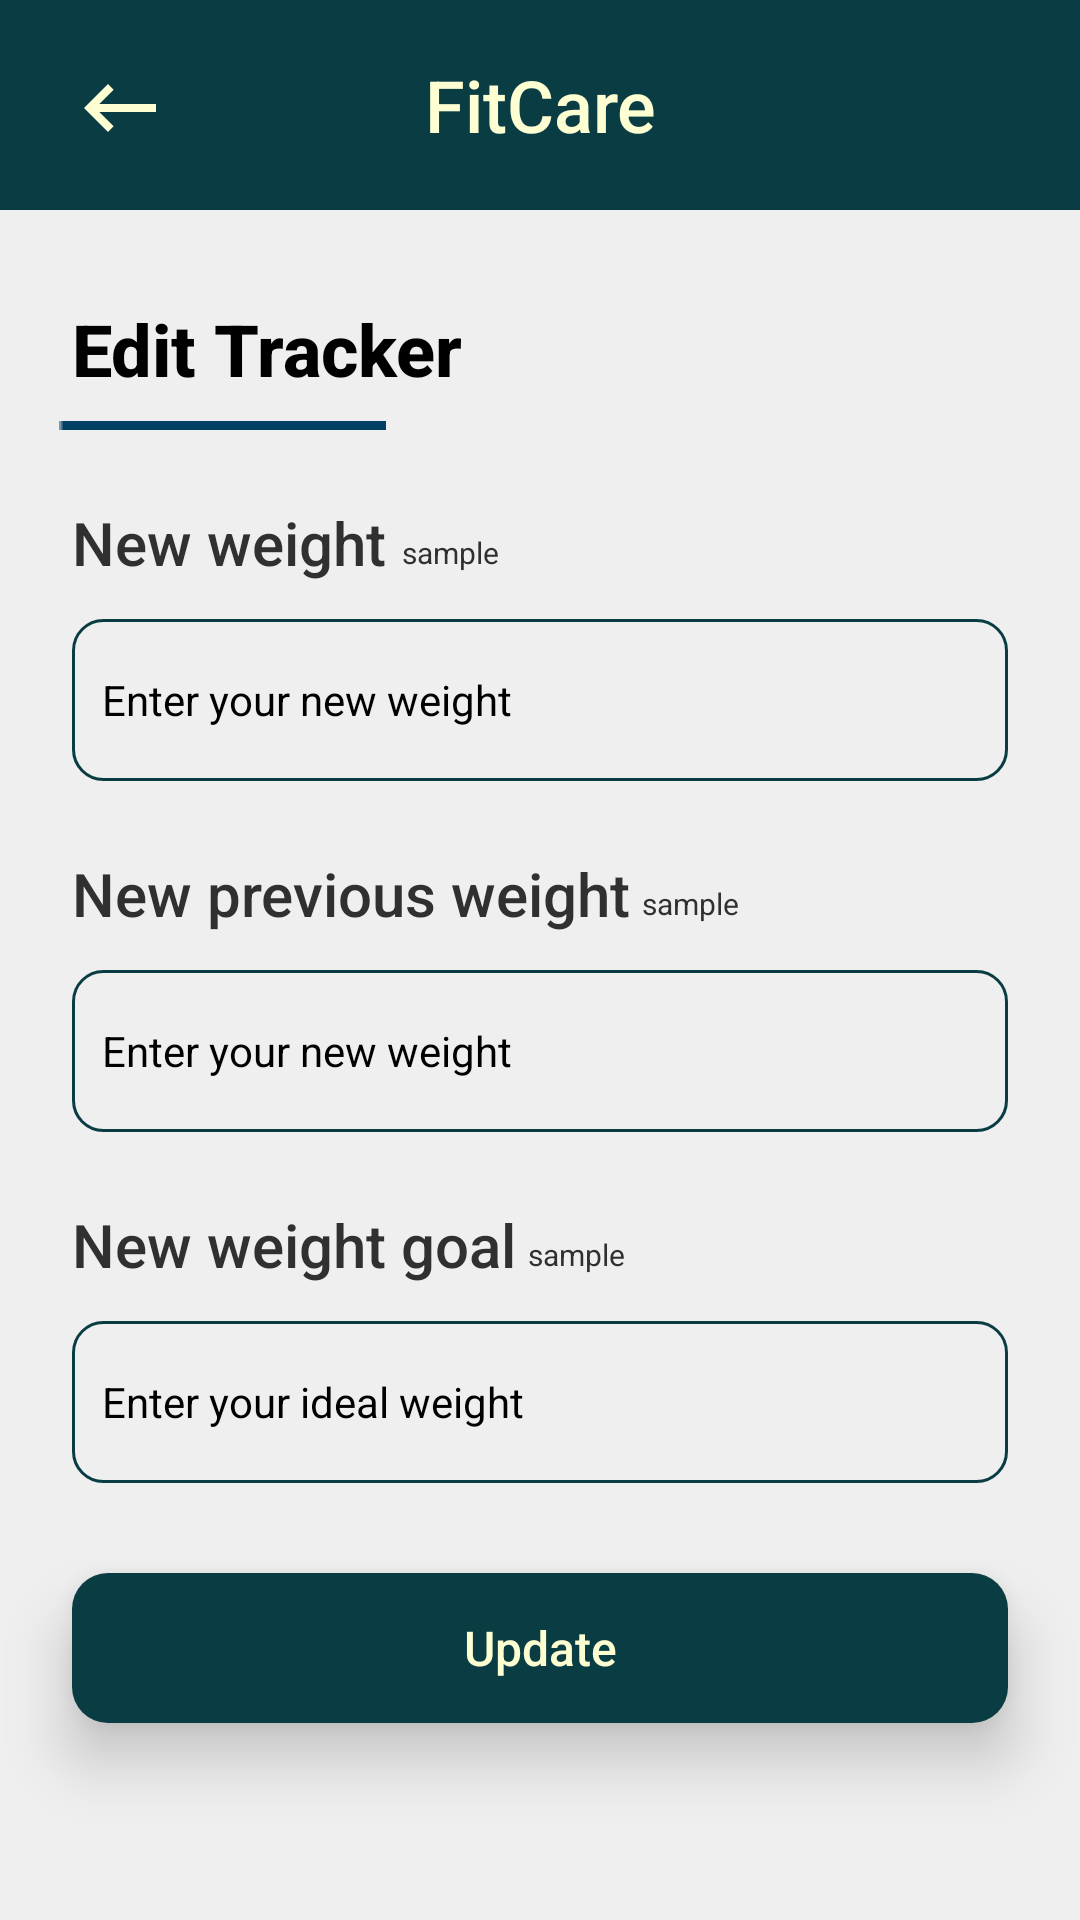

Icons on this 1080px×1920px Android screen, each with its box as (x1, y1, x2, y2):
back: (84, 84, 156, 132)
